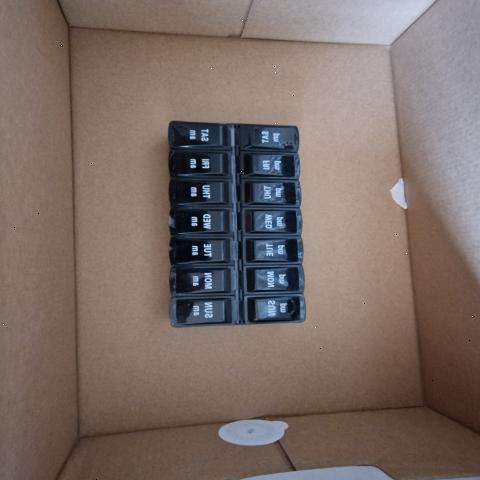PillBox: (138, 102, 322, 361)
